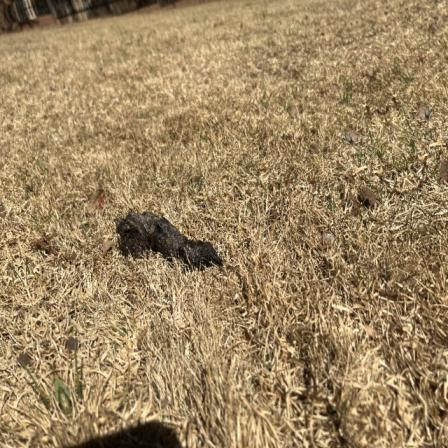dog-poop: (114, 203, 222, 272)
